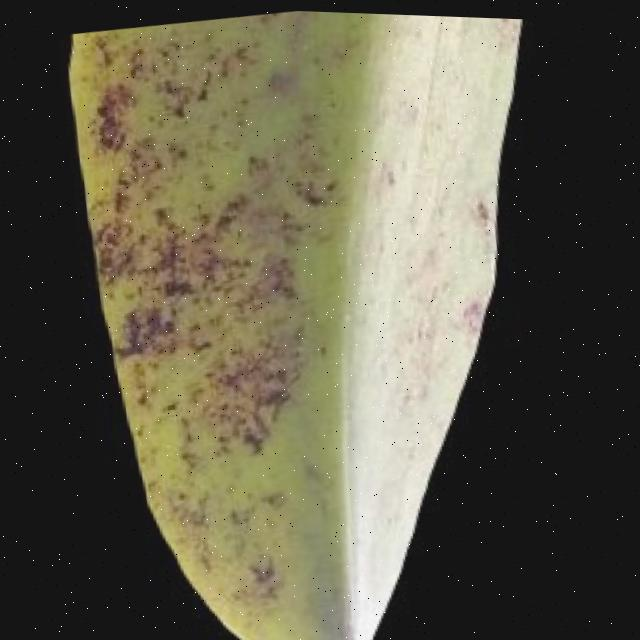mite: (93, 92, 131, 154), (261, 482, 301, 517), (254, 557, 286, 588), (234, 506, 263, 531), (267, 489, 296, 512)
sunburn: (55, 9, 622, 640)
